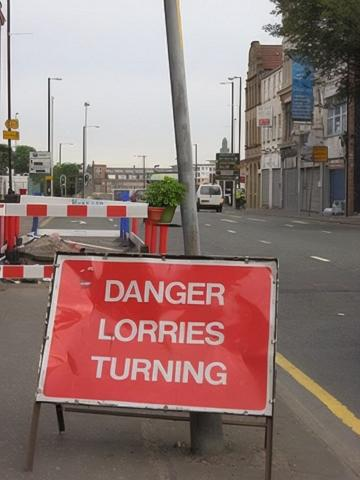car: (197, 185, 224, 215), (131, 190, 149, 203)
pottedplant: (146, 175, 183, 226)
